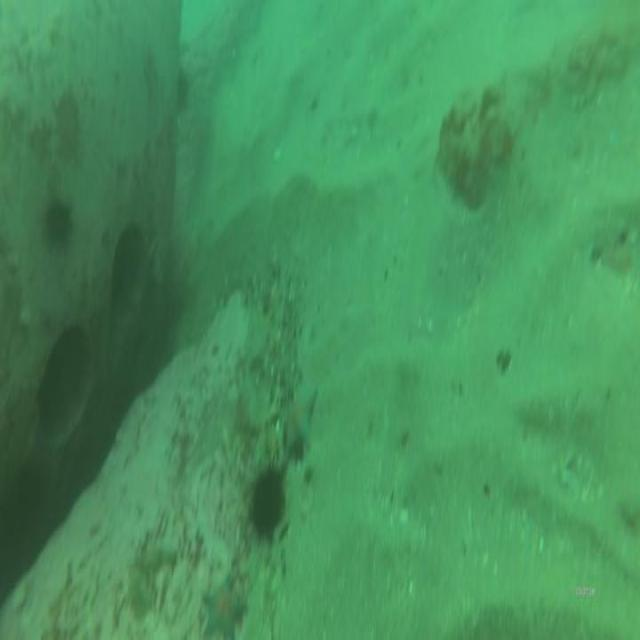echinus: (238, 449, 292, 548), (39, 190, 77, 254)
starfish: (273, 376, 319, 458), (202, 570, 252, 640)
